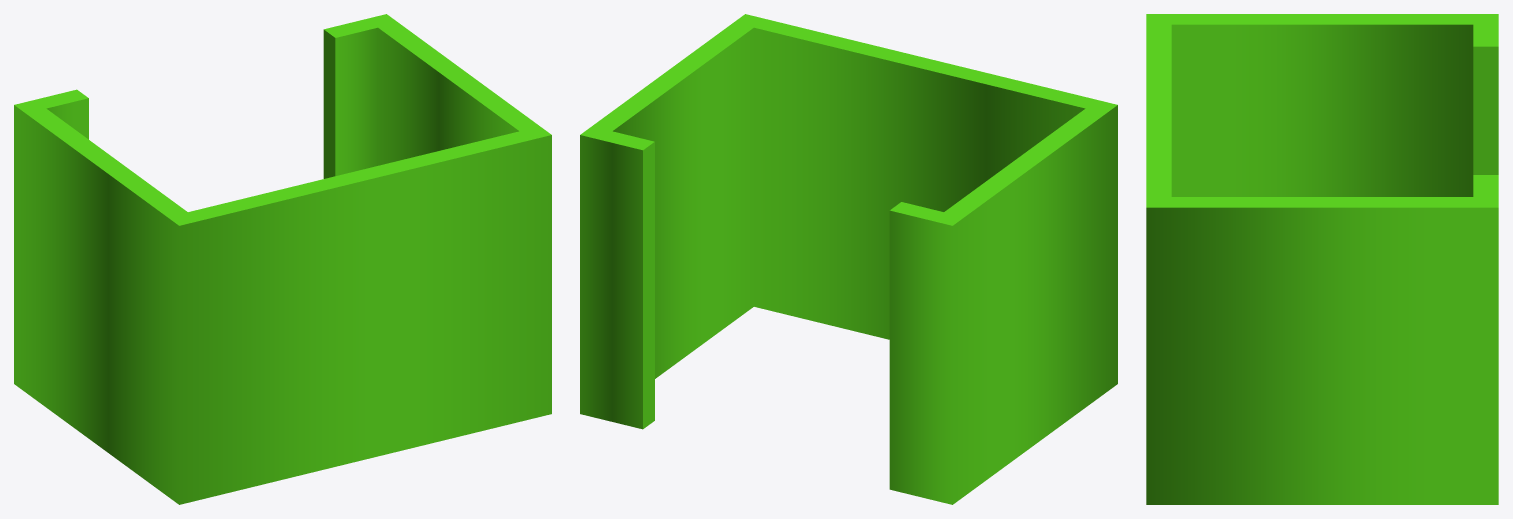
Rendered from SM_Elevator-Shaft_E.fbx.
3 views of the same model, side by side, from view 1: azimuth 30°, elevation 25°; view 2: azimuth 150°, elevation 25°; view 3: azimuth 270°, elevation 25° (orthographic). The views are drawn at different scales.
Parts seen in each view (by area): view 1: SM_Elevator-Shaft_E; view 2: SM_Elevator-Shaft_E; view 3: SM_Elevator-Shaft_E.
Part boxes in pixels (x1,y1,x2,y2): SM_Elevator-Shaft_E: (14, 14, 551, 504); SM_Elevator-Shaft_E: (580, 14, 1117, 504); SM_Elevator-Shaft_E: (1146, 14, 1498, 504).
Size of the model in its own units: 419 by 322 by 300.
